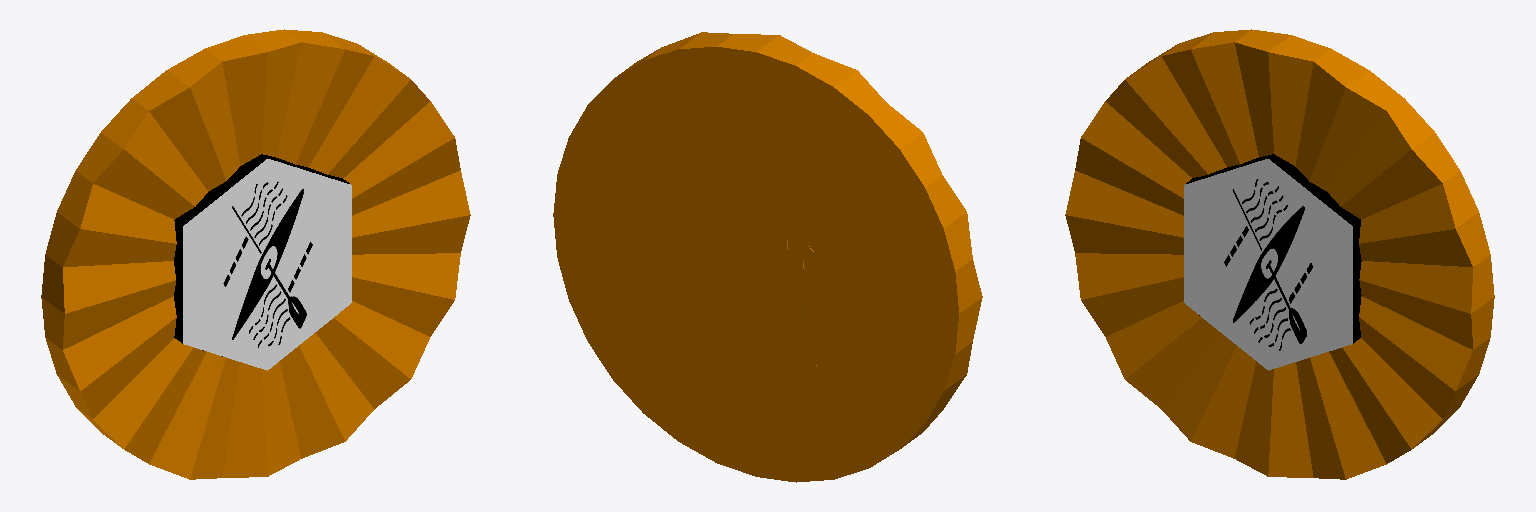
The picture shows the model from 3 angles: view 1: azimuth 30°, elevation 25°; view 2: azimuth 150°, elevation 25°; view 3: azimuth 330°, elevation 25°; orthographic projection.
Visible parts, largest first — view 1: Cylinder; view 2: Cylinder; view 3: Cylinder.
Part boxes in pixels (bbox=[...]): Cylinder: bbox=[41, 29, 470, 479]; Cylinder: bbox=[553, 32, 982, 482]; Cylinder: bbox=[1065, 29, 1494, 479].
Size of the model in its own units: 10 by 10 by 1.
3 materials, 1 textured.